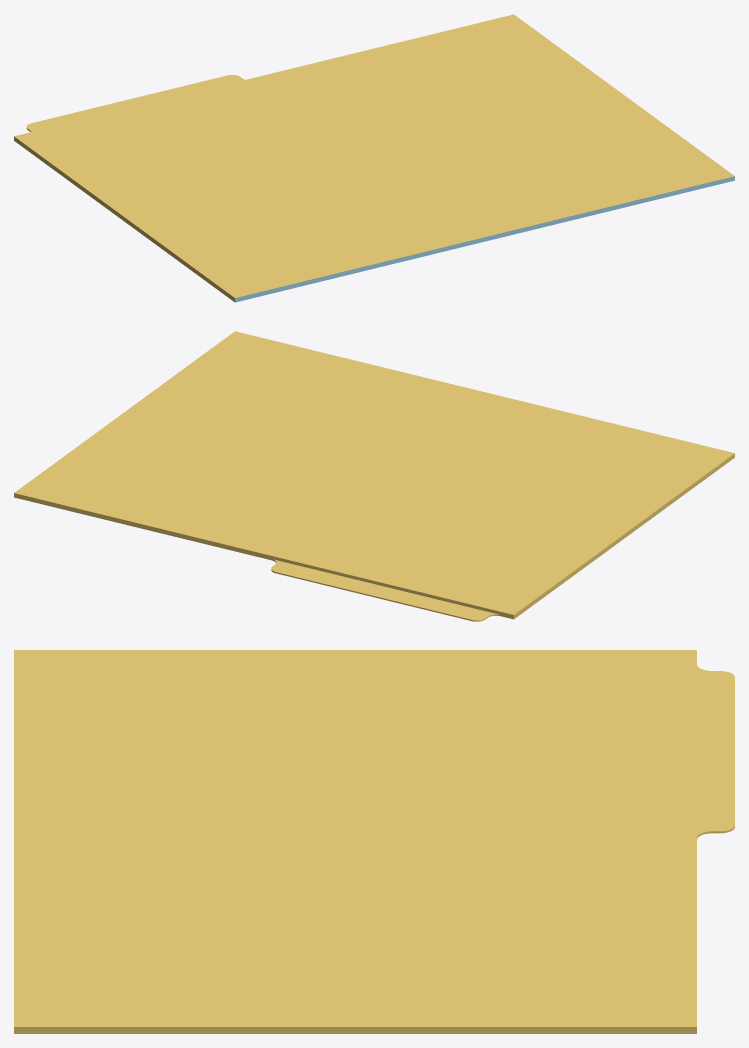
File: FileFolder.dae
3 renders of one model, top to bottom at view 1: azimuth 30°, elevation 25°; view 2: azimuth 150°, elevation 25°; view 3: azimuth 270°, elevation 25°, orthographic. The views are drawn at different scales.
Parts seen in each view (by area): view 1: ID2; view 2: ID2; view 3: ID2.
Part boxes in pixels (bbox=[...]): ID2: bbox=[14, 14, 734, 302]; ID2: bbox=[14, 331, 734, 621]; ID2: bbox=[14, 650, 734, 1033].
Bounding box in the file's own units: 0.2984 × 0.2413 × 0.00254.
